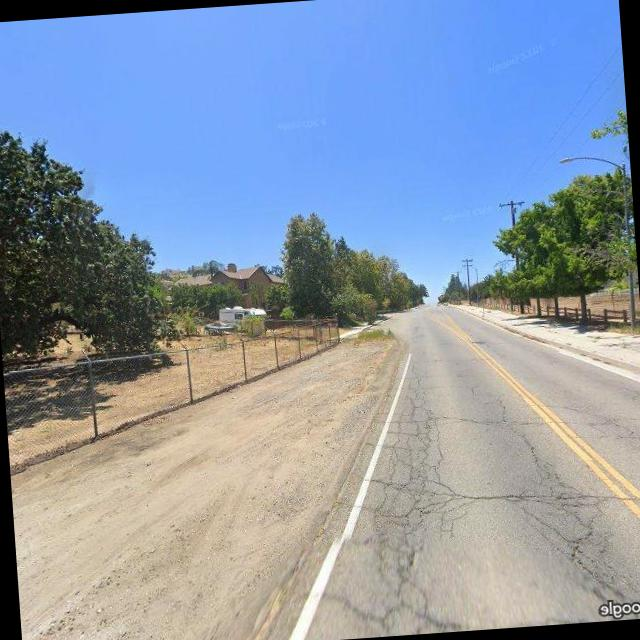crack: (322, 356, 640, 630), (342, 545, 476, 638)
